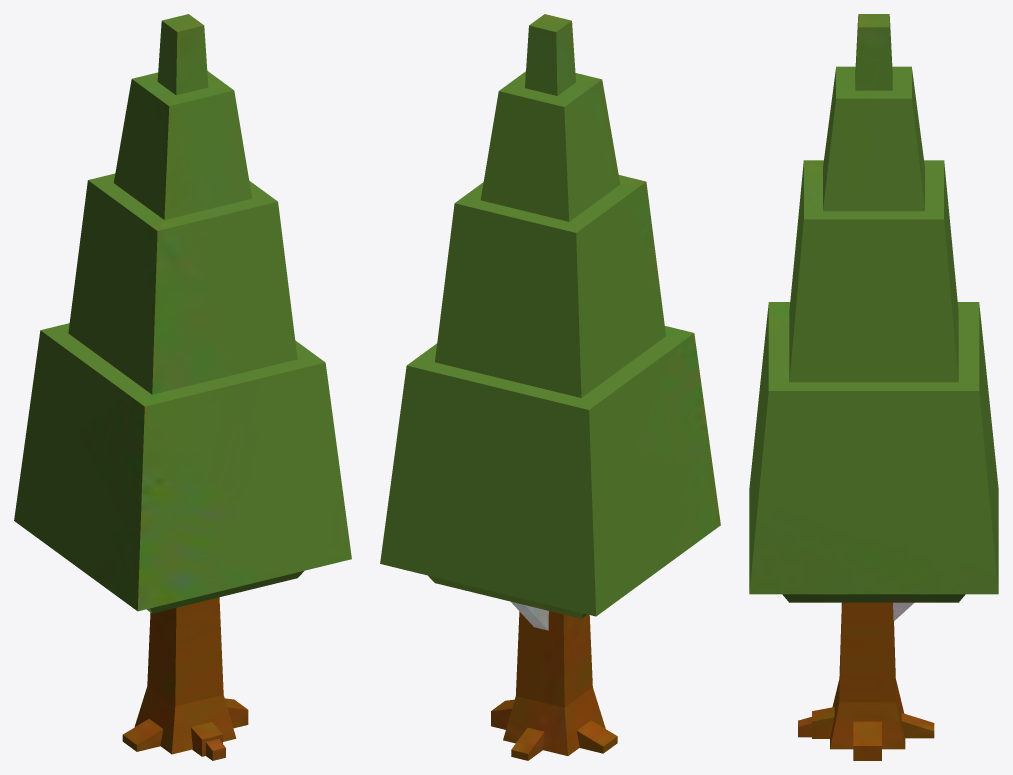
The model's file is mega-pack-cube-044.glb.
The picture shows the model from 3 angles, left to right: view 1: azimuth 30°, elevation 25°; view 2: azimuth 150°, elevation 25°; view 3: azimuth 270°, elevation 25°; orthographic projection.
Visible parts, largest first — view 1: Cube.044; view 2: Cube.044; view 3: Cube.044.
Part boxes in pixels (left/top/right/bottom): Cube.044: left=14, top=14, right=351, bottom=760; Cube.044: left=380, top=14, right=720, bottom=760; Cube.044: left=749, top=14, right=998, bottom=760.
Size of the model in its own units: 1.43 by 4.5 by 1.43.
1 material, 1 textured.
